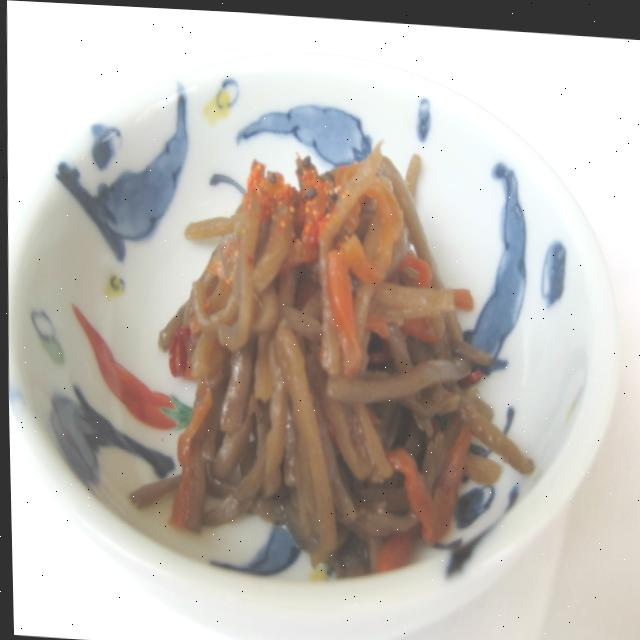蔬菜料理: (25, 86, 604, 591)
